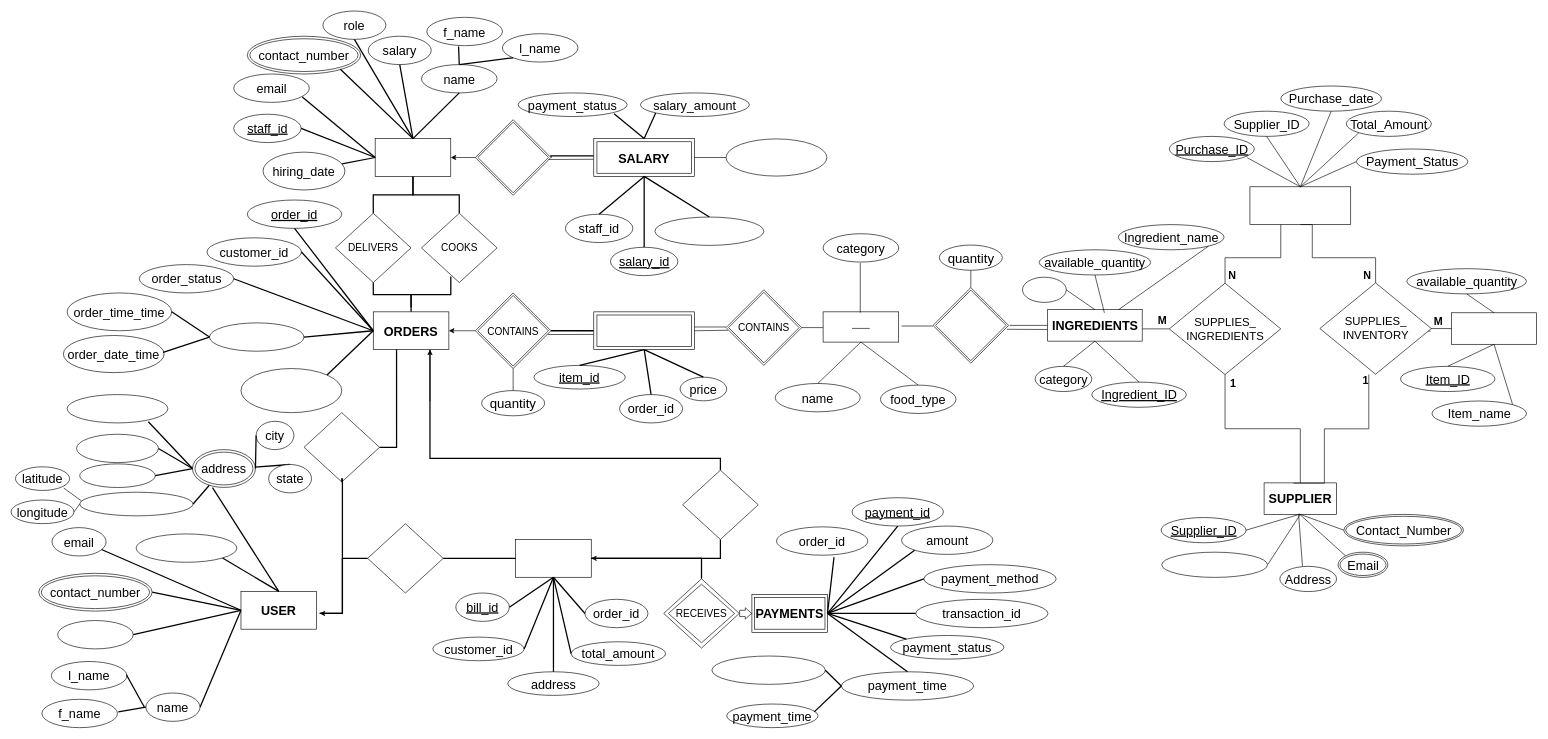
The diagram is 1548 pixels wide and 739 high, and some of its shapes have lost their labels. The centre of each missing label's shape, as x and y in pixels:
BILLING: the point at 553,558
date_of_birth: the point at 186,547
date_of_transaction: the point at 776,157
delivery_partner: the point at 291,390
flat/house_no: the point at 117,408
GENERATE: the point at 720,504
geo_coordinates: the point at 136,504
HAS_ RECIPE: the point at 970,325
INVENTORY: the point at 1494,328
is_veg: the point at 1044,289
ITEMS: the point at 644,330
MENU: the point at 860,326
order_time: the point at 256,336
payment_date: the point at 768,669
PAYS: the point at 405,558
PLACES: the point at 341,447
PURCHASE: the point at 1300,205
salary amount: the point at 709,230
soc_name: the point at 117,448
STAFF: the point at 413,157
street/area: the point at 117,475
Supplier_Name: the point at 1214,564
TO BE PAID: the point at 513,157
user_id: the point at 95,634
